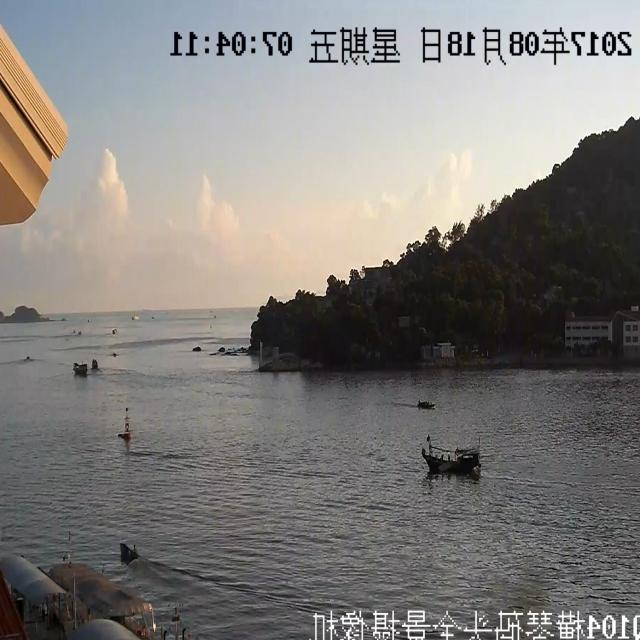buoy: (114, 382, 145, 444)
fishing boat: (413, 421, 488, 496), (413, 390, 436, 416)
